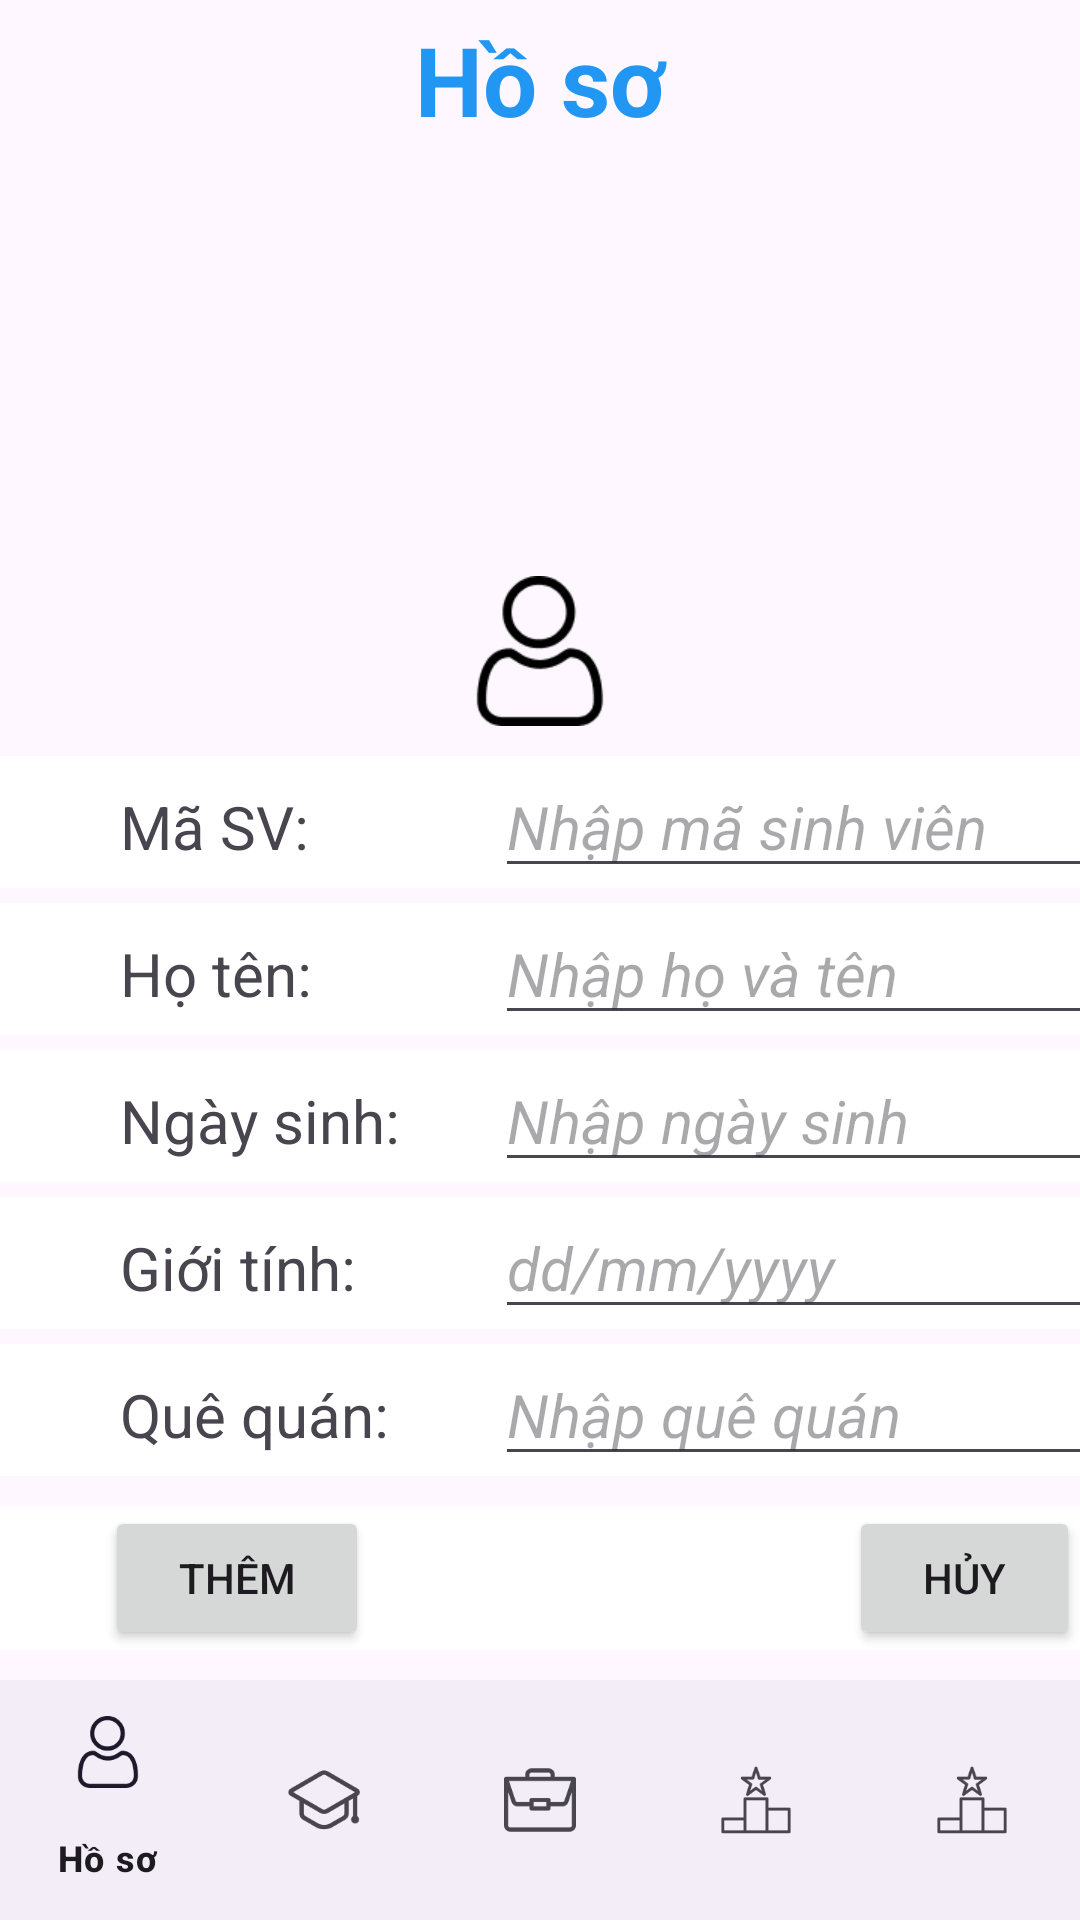

Screen size 1080w x 1920h. Icon name, then its box in pixels as bbox=(x1, y1, x2, y2):
user: bbox=(476, 576, 604, 726)
